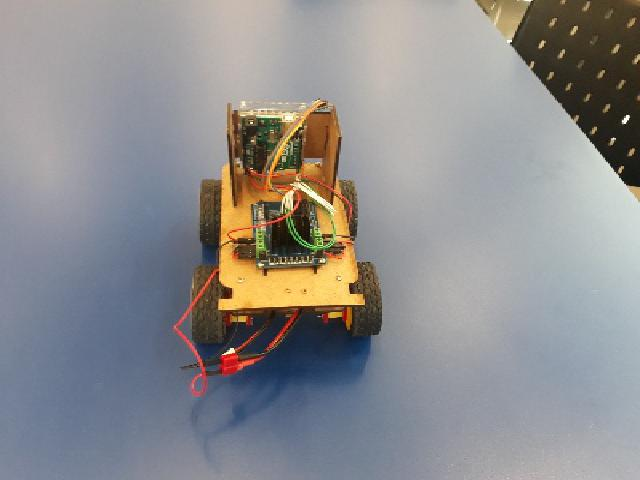Robot: (192, 97, 384, 347)
